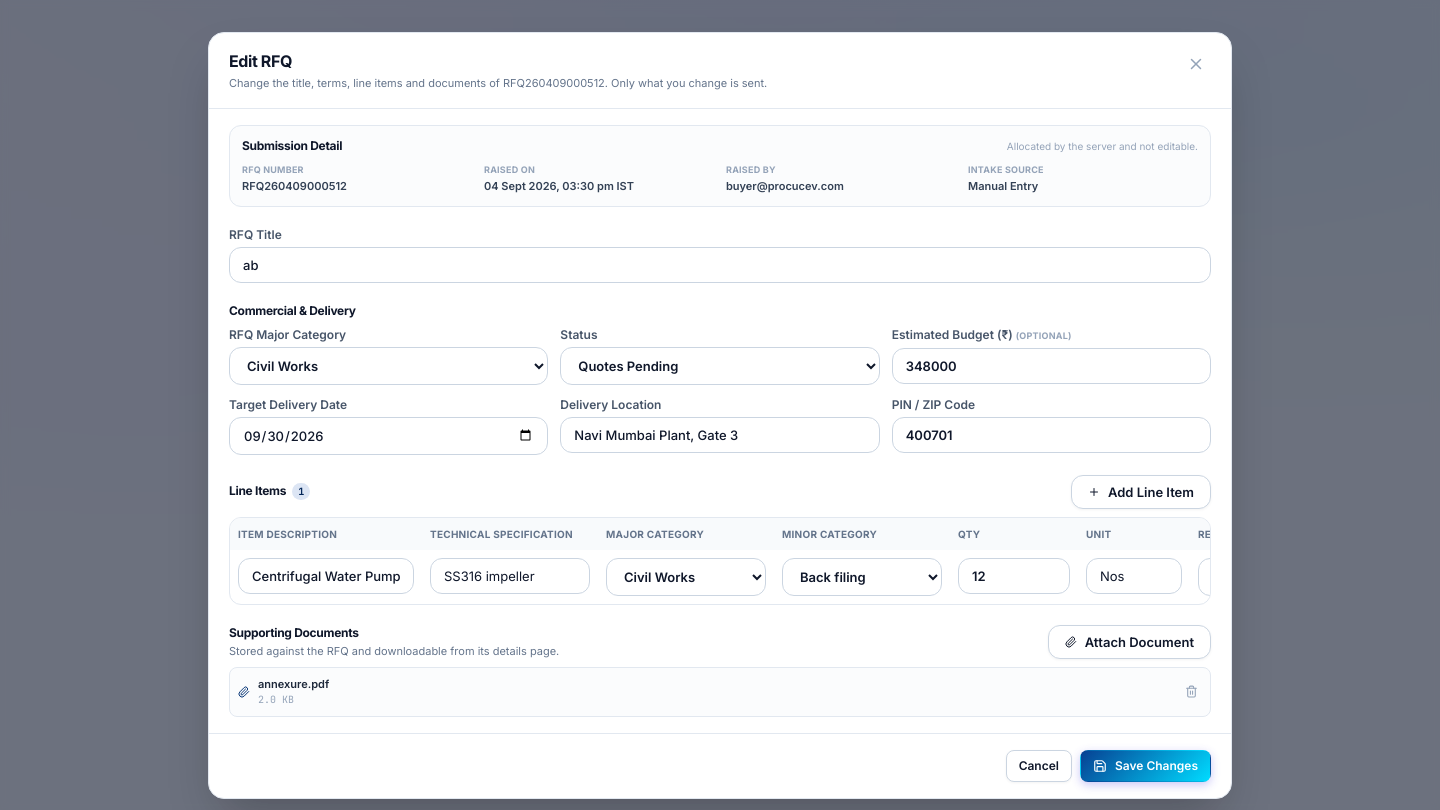
RFQEditModal: saving › holds validation back until the buyer tries to save
The width and height of the screenshot is (1440, 810).
Expected: the text "RFQ Title is required and must be at least 3 characters." is not shown
Click the button "Save Changes" at {"x": 1145, "y": 766}, box [1080,750,1211,782]
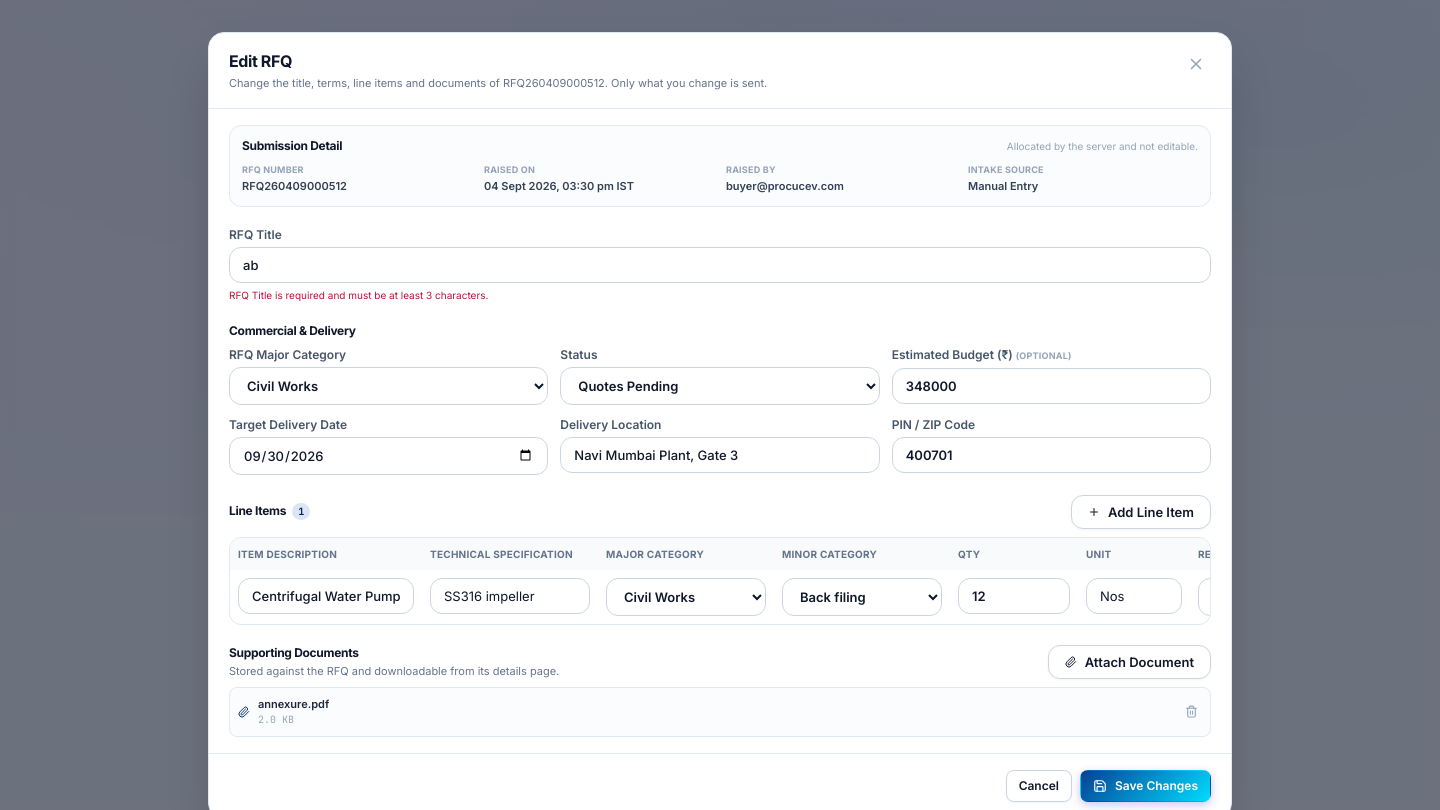
Expected: the text "RFQ Title is required and must be at least 3 characters." is shown, [229,288,488,300]
